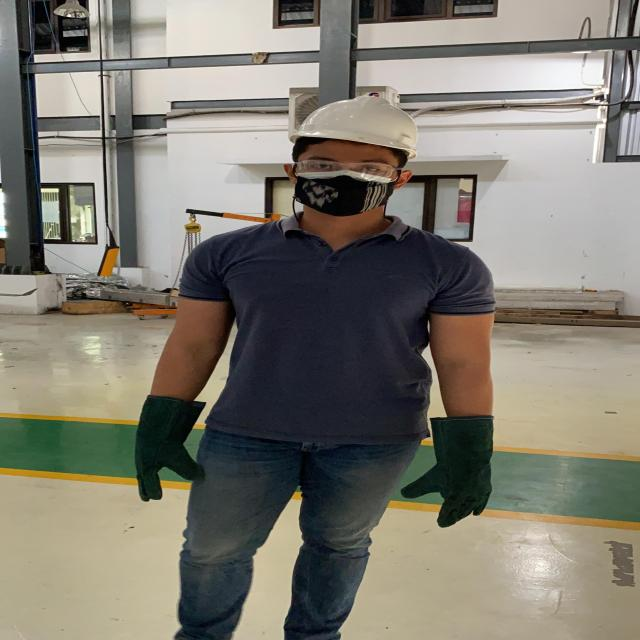face_mask: (287, 156, 398, 218)
glasses: (289, 160, 407, 177)
hand_glove: (113, 394, 220, 507), (398, 430, 504, 529)
head_helmet: (279, 91, 430, 156)
person: (114, 94, 544, 640)
